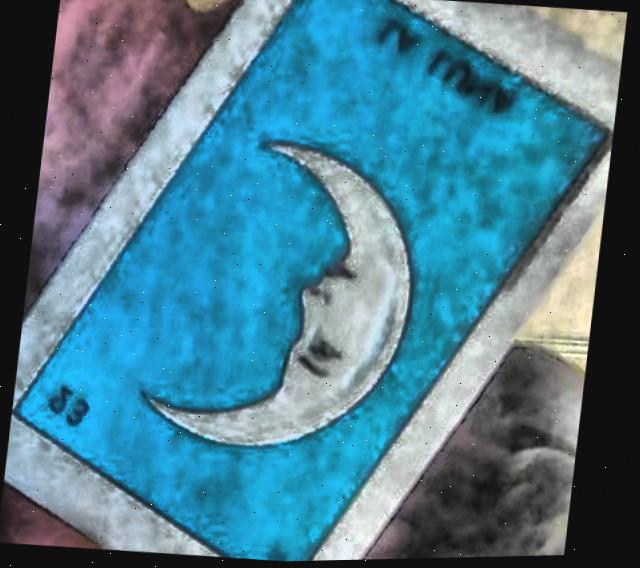La Luna: (19, 0, 610, 563)
